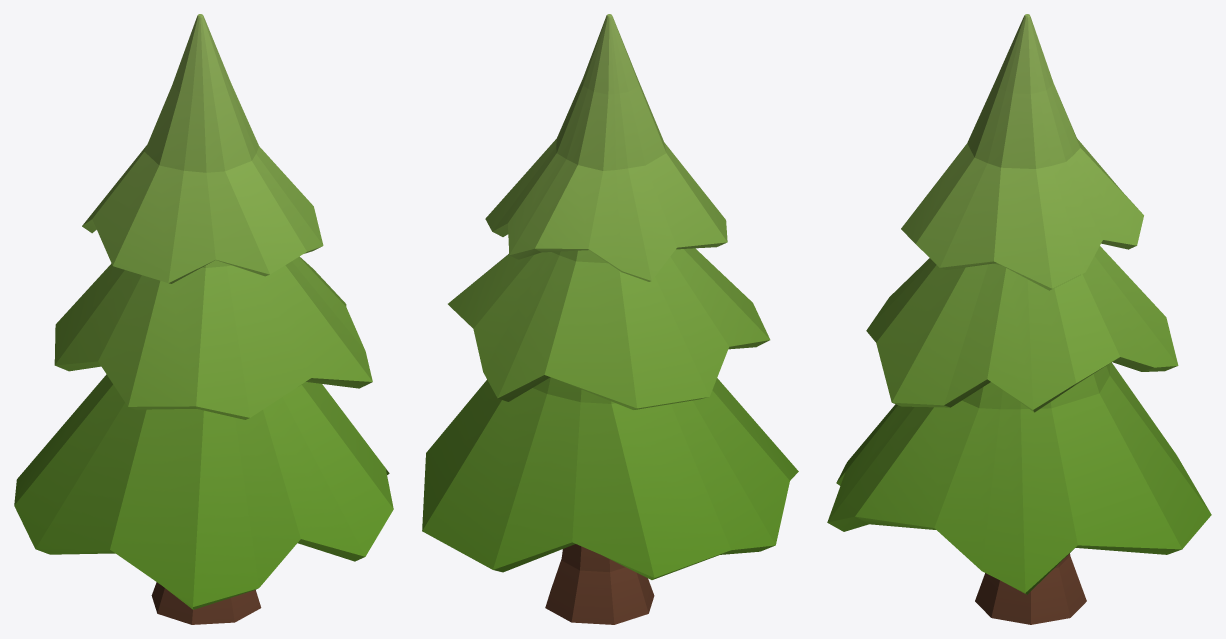
The model's file is fir tree medium.fbx.
3 views of the same model, side by side, from view 1: azimuth 30°, elevation 25°; view 2: azimuth 150°, elevation 25°; view 3: azimuth 270°, elevation 25° (orthographic).
Visible parts, largest first — view 1: fir tree medium; view 2: fir tree medium; view 3: fir tree medium.
Boxes of the visible parts, x1=… form: fir tree medium: x1=14, y1=14, x2=393, y2=624; fir tree medium: x1=422, y1=14, x2=798, y2=624; fir tree medium: x1=827, y1=14, x2=1211, y2=624.
Bounding box in the file's own units: 362 × 584 × 350.
